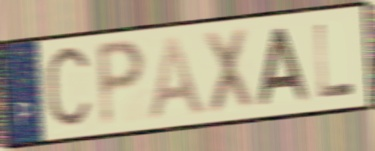A: (147, 34, 210, 123), (256, 26, 312, 107)
C: (43, 41, 95, 137)
L: (312, 21, 357, 101)
P: (95, 36, 149, 130)
X: (201, 24, 255, 118)
